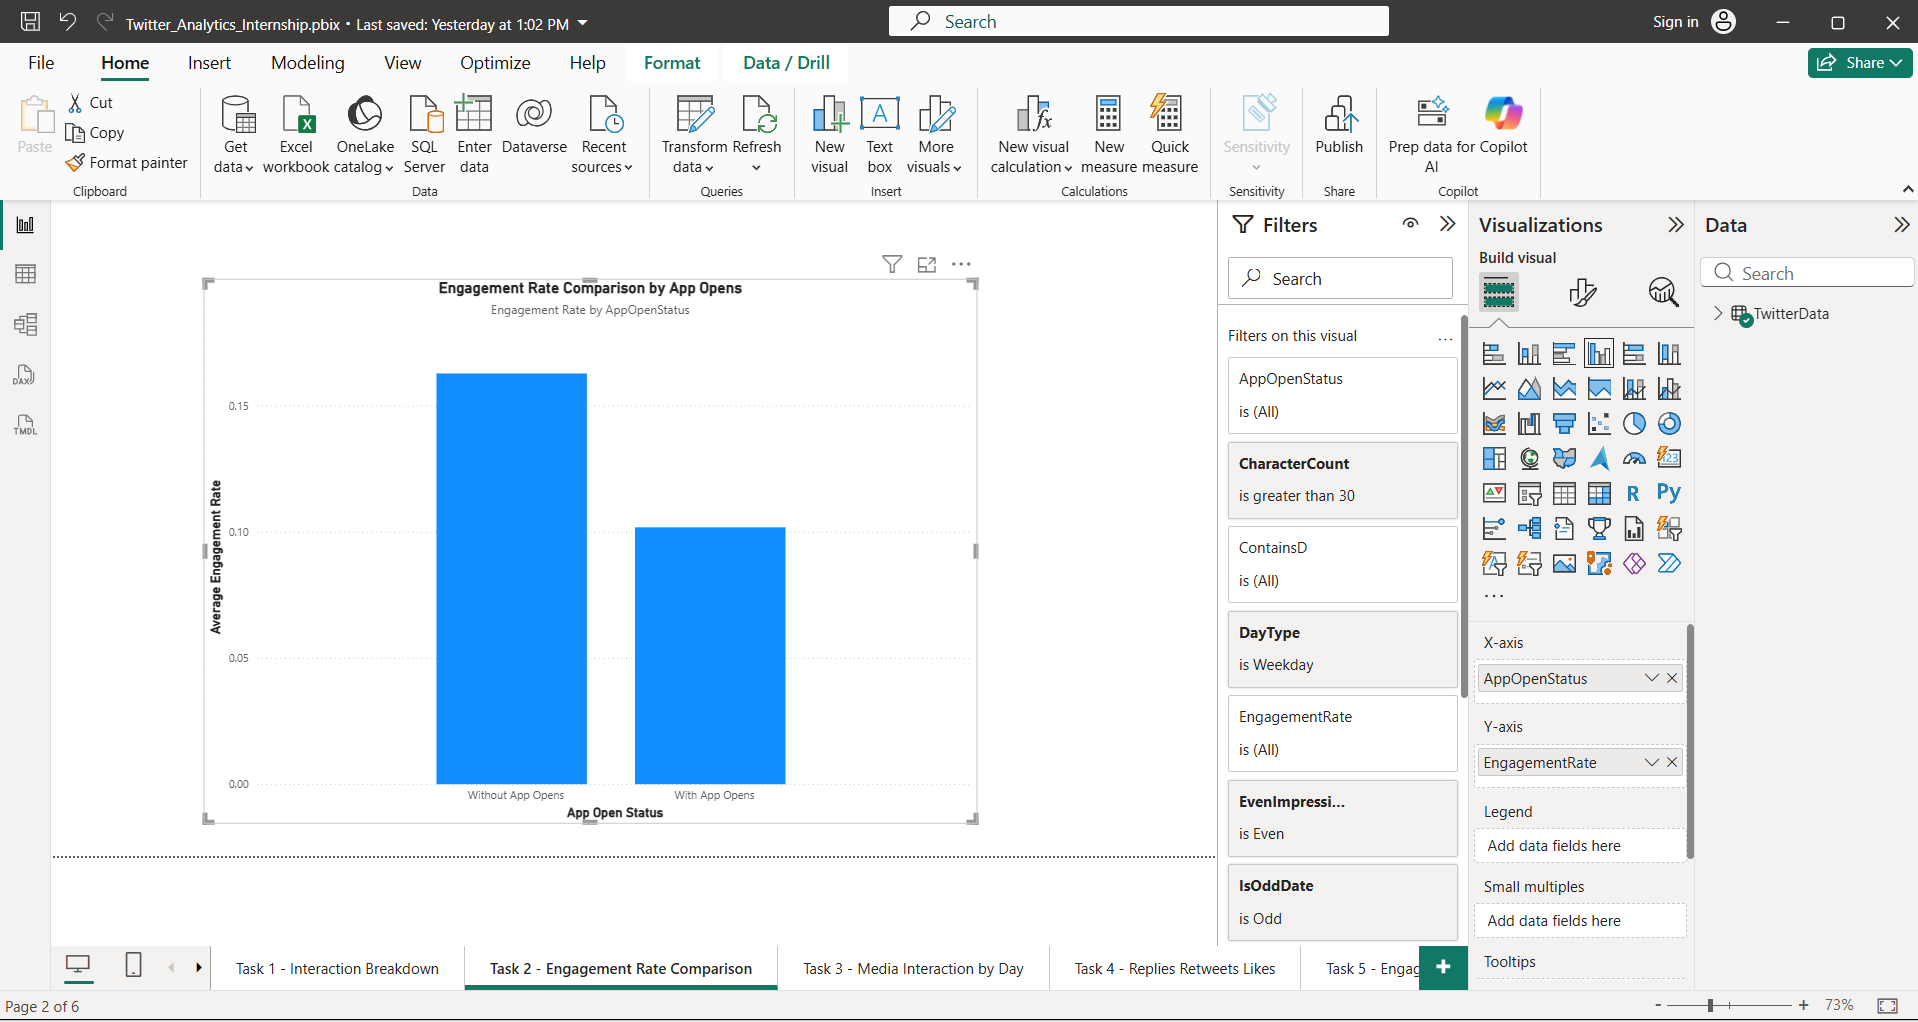

This screenshot's page, from the dashboard's own definition file:
{"tool":"powerbi","page":{"name":"Task 2 - Engagement Rate Comparison","canvas":[1280,720],"ordinal":1},"visuals":[{"type":"clusteredColumnChart","title":"Engagement Rate Comparison by App Opens","fields":{"Category":["TwitterData.AppOpenStatus"],"Y":["TwitterData.EngagementRate"]},"box":[87.8,23.3,850,598.9],"z":0}]}

Visuals, with their boxes on the page's 1280x720 design canvas (x1, y1, x2, y2). These are canvas units, not pixel positions in the 1918x1022 screenshot, which may show the page scaled, cropped or inside an application window:
"Engagement Rate Comparison by App Opens" clusteredColumnChart: [88, 23, 938, 622]
